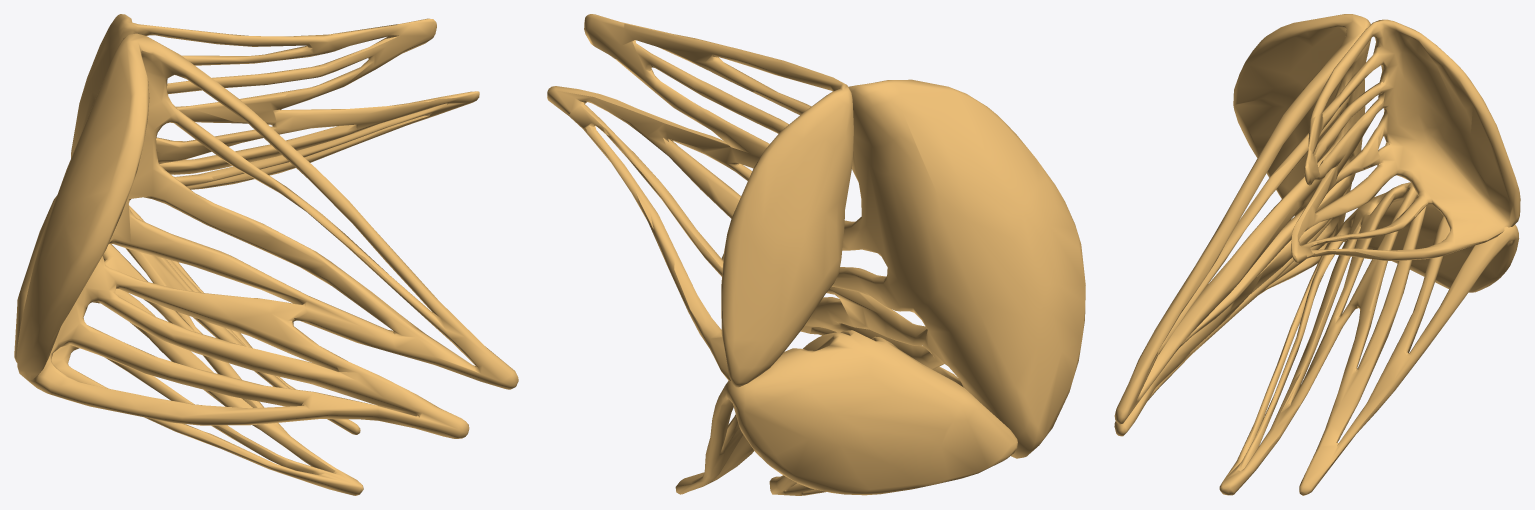
File: valva-tricuspide.glb
The picture shows the model from 3 angles, left to right: view 1: azimuth 30°, elevation 25°; view 2: azimuth 150°, elevation 25°; view 3: azimuth 270°, elevation 25°; orthographic projection. The views are drawn at different scales.
Visible parts, largest first — view 1: valva-tricuspide; view 2: valva-tricuspide; view 3: valva-tricuspide.
Part boxes in pixels (left/top/right/bottom): valva-tricuspide: left=14, top=14, right=518, bottom=495; valva-tricuspide: left=547, top=14, right=1085, bottom=495; valva-tricuspide: left=1114, top=14, right=1520, bottom=495.
Size of the model in its own units: 0.0506 by 0.0478 by 0.0427.
